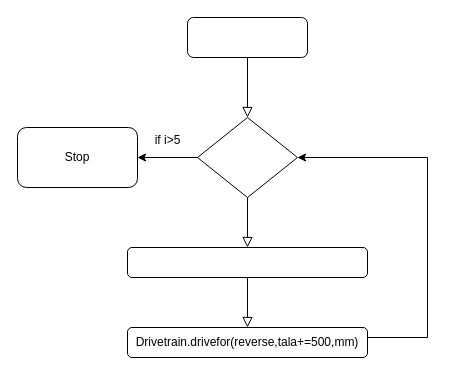
Some shapes in this 453 by 375 pixel diagram are drawn without their labels. Each missing label, with the centre of its shape:
Drivetrain.drivefor(forward,tala+=500,mm): the point at 247,262
Start: the point at 247,37
